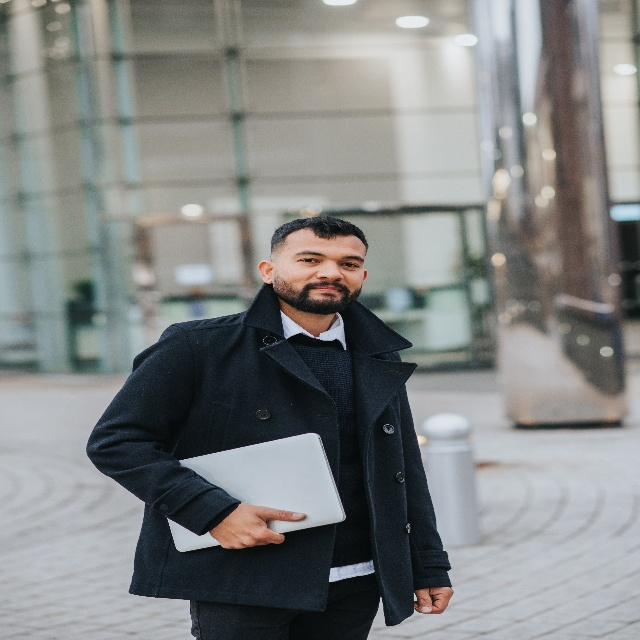Sin_guantes: (210, 501, 305, 548), (413, 586, 453, 614)
